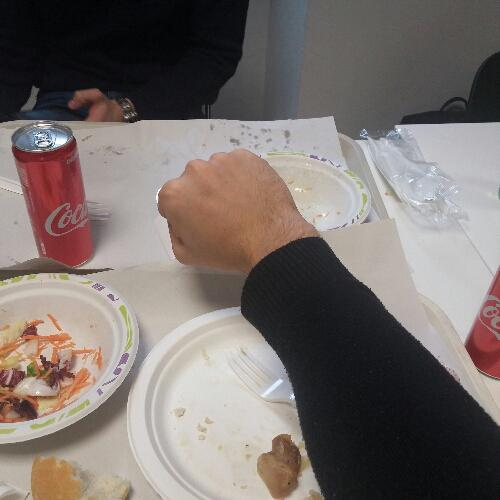rock: (153, 143, 323, 279)
